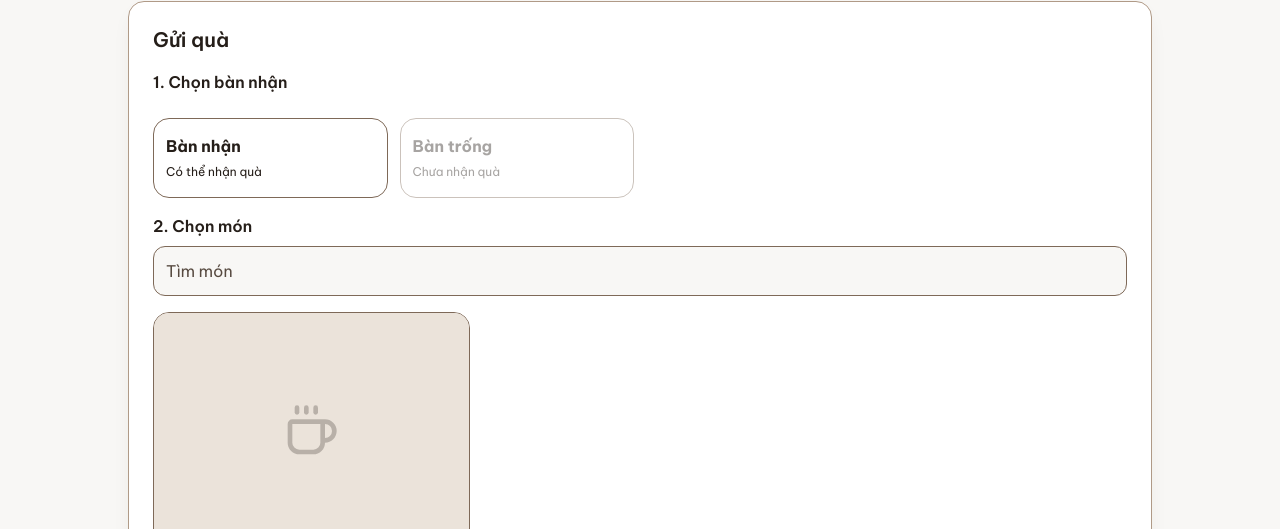
Scenario: anonymous gift UI › lets the sender choose to show their table for this gift and resets the next draft to anonymous
This screenshot has width=1280, height=529.
Click the button "Bàn nhận Có thể nhận quà" at (270, 158), box [153,118,388,198]
(page scrolled)
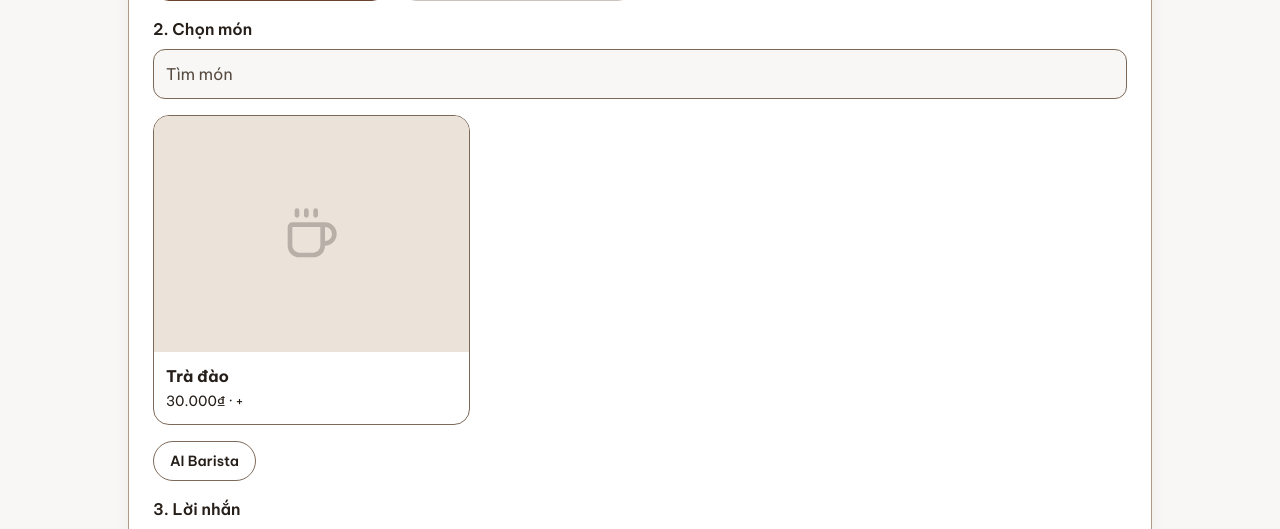
Click the button "Trà đào 30.000₫ · +" at (311, 270), box [153,115,470,425]
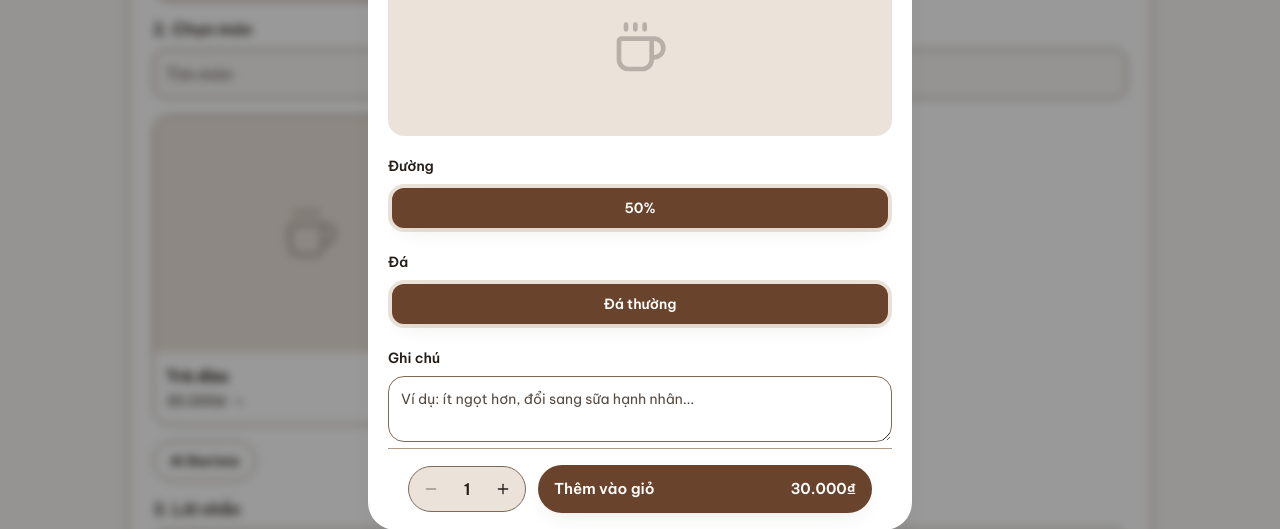
Click the button "Thêm vào giỏ 30.000₫" at (604, 488), box [538,465,872,513]
(page scrolled)
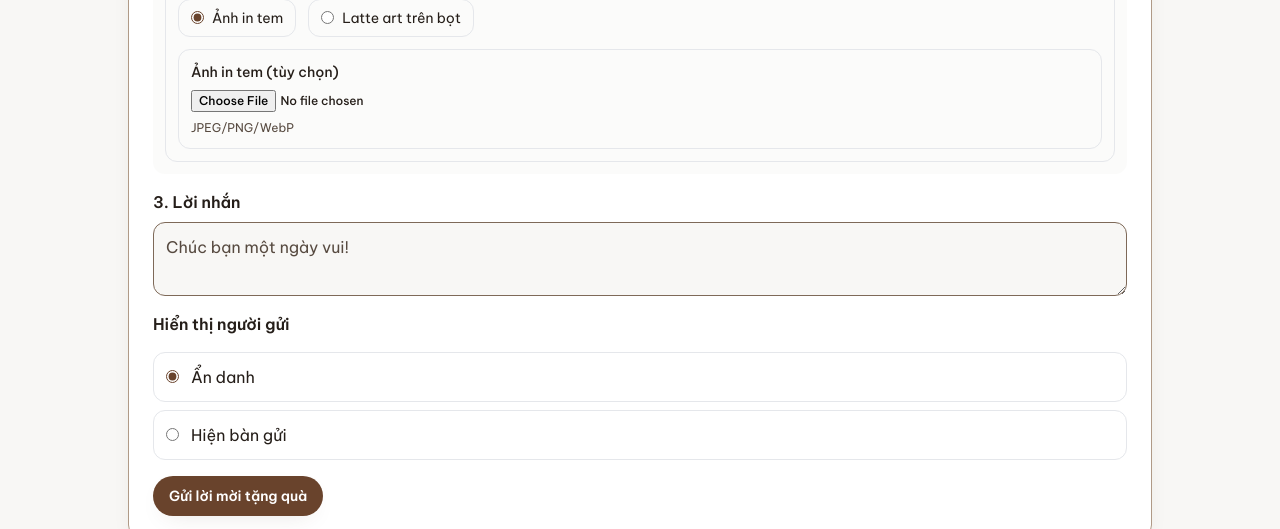
Click the radio button labelled "Hiện bàn gửi" at (172, 435), box [166,428,179,442]
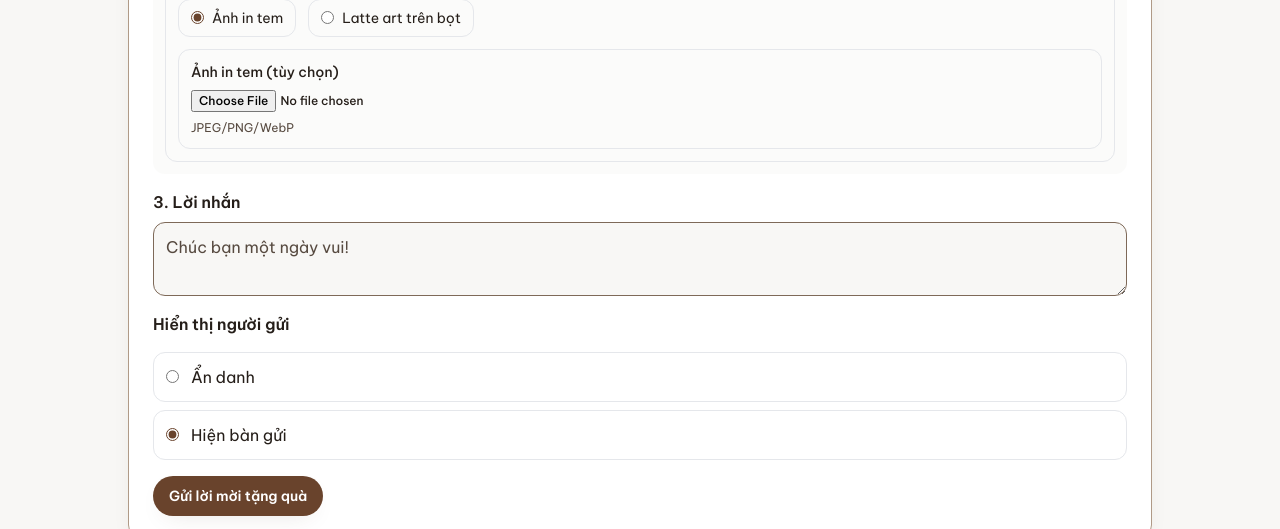
Click the button "Gửi lời mời tặng quà" at (238, 496), box [153,476,323,516]
(page scrolled)
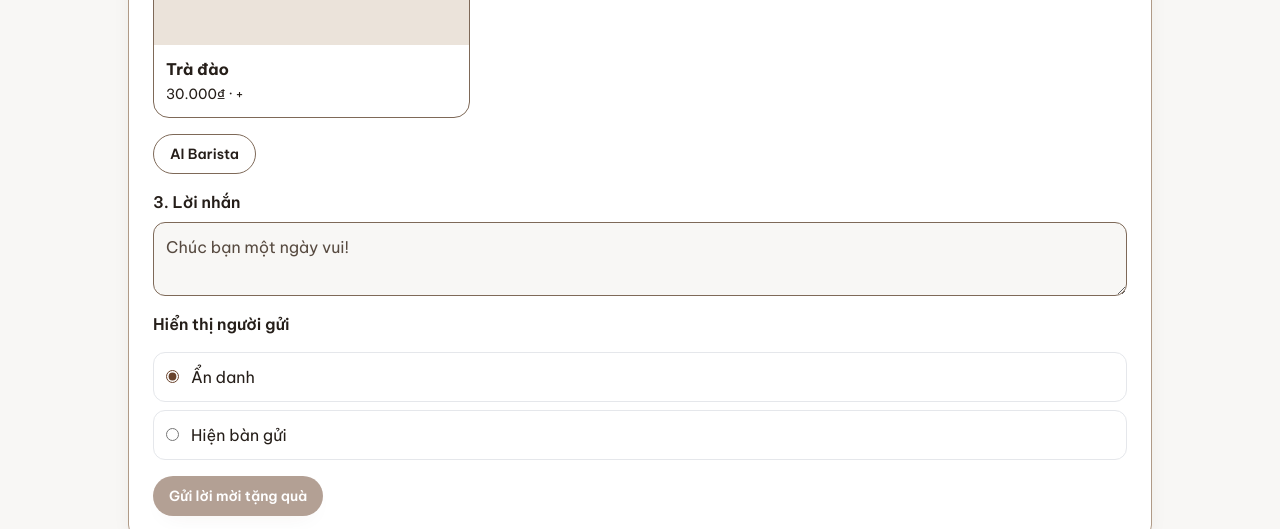
Now the radio button labelled "Ẩn danh" is checked, box [166,370,179,384]
